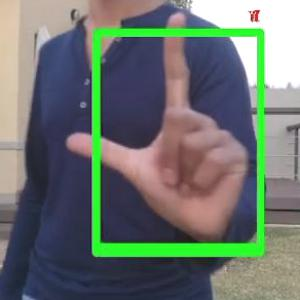land_hand: (59, 3, 265, 250)
